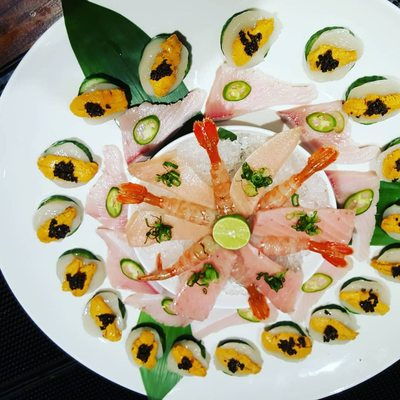curry: (293, 210, 321, 235)
